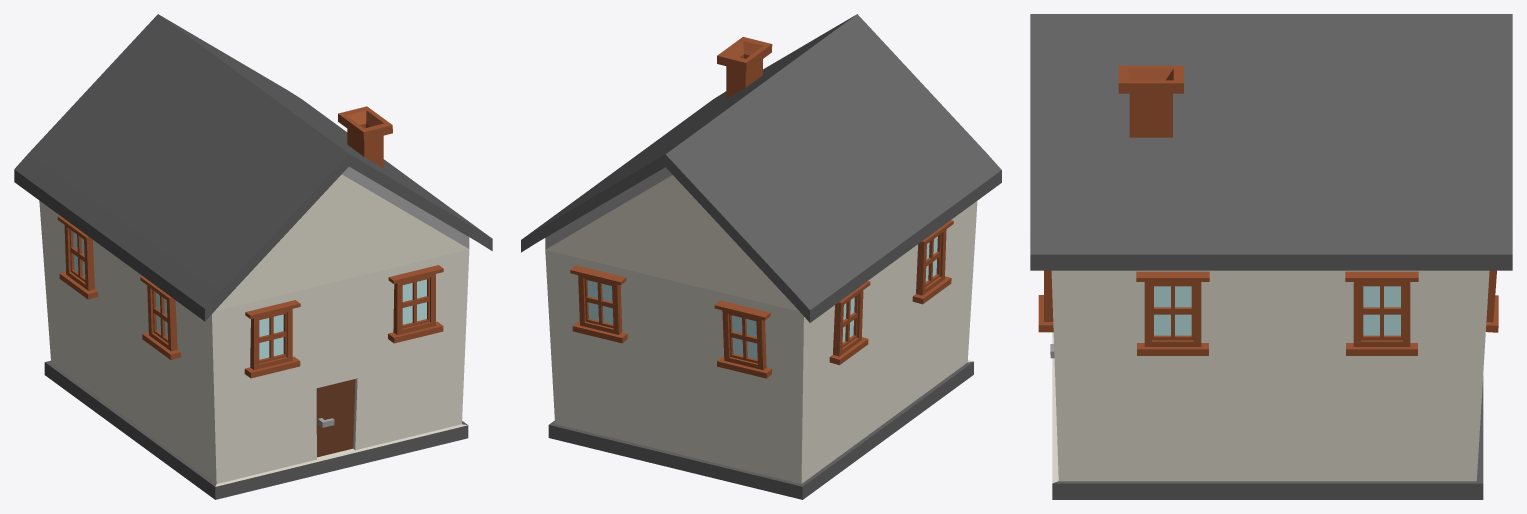
The model's file is House2.glb.
3 renders of one model, left to right at view 1: azimuth 30°, elevation 25°; view 2: azimuth 150°, elevation 25°; view 3: azimuth 270°, elevation 25°, orthographic. The views are drawn at different scales.
Visible parts, largest first — view 1: House2; view 2: House2; view 3: House2.
Boxes of the visible parts, box(x1,y1,x2,y2) form: House2: box(14, 14, 492, 499); House2: box(521, 14, 1001, 499); House2: box(1030, 14, 1512, 499).
Size of the model in its own units: 5.14 by 5.5 by 5.91.
1 material, 1 textured.
